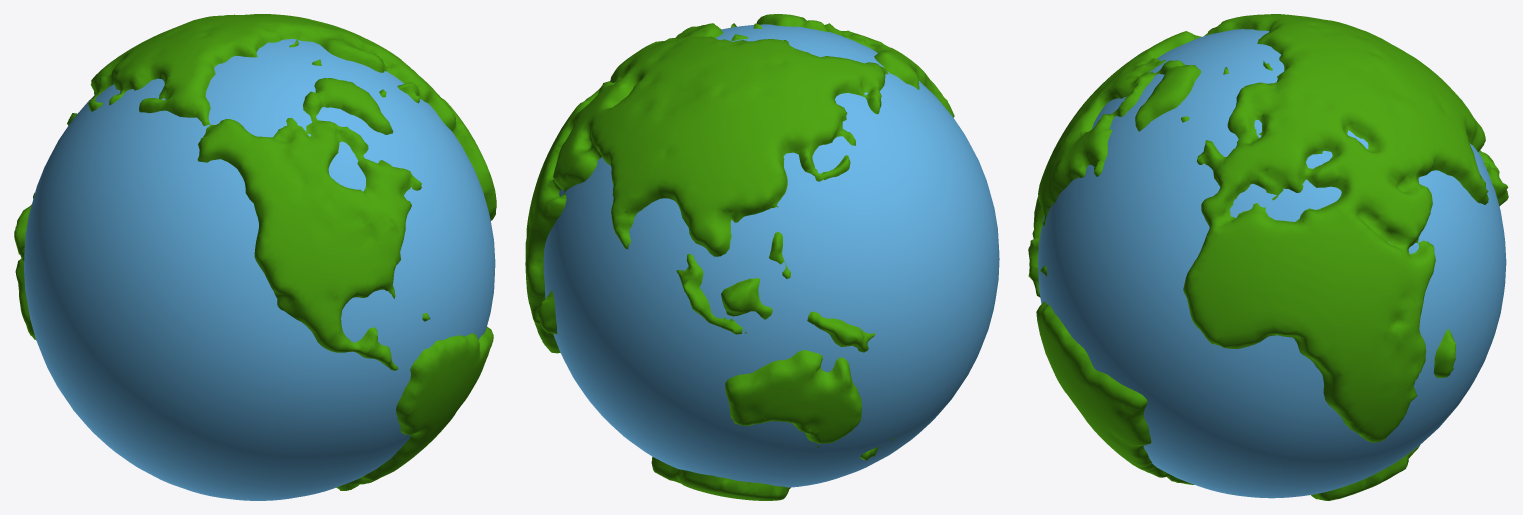
File: final-globe.fbx
The picture shows the model from 3 angles, left to right: view 1: azimuth 30°, elevation 25°; view 2: azimuth 150°, elevation 25°; view 3: azimuth 270°, elevation 25°; orthographic projection. The views are drawn at different scales.
Parts seen in each view (by area): view 1: Globbe, Earth.001; view 2: Globbe, Earth.001; view 3: Earth.001, Globbe.
Part boxes in pixels (x1,y1,x2,y2): Globbe: (24,39,495,500); Earth.001: (14,14,496,490); Globbe: (543,24,999,487); Earth.001: (525,14,954,500); Earth.001: (1028,14,1508,500); Globbe: (1038,29,1506,498).
Size of the model in its own units: 1079 by 1117 by 1083.
